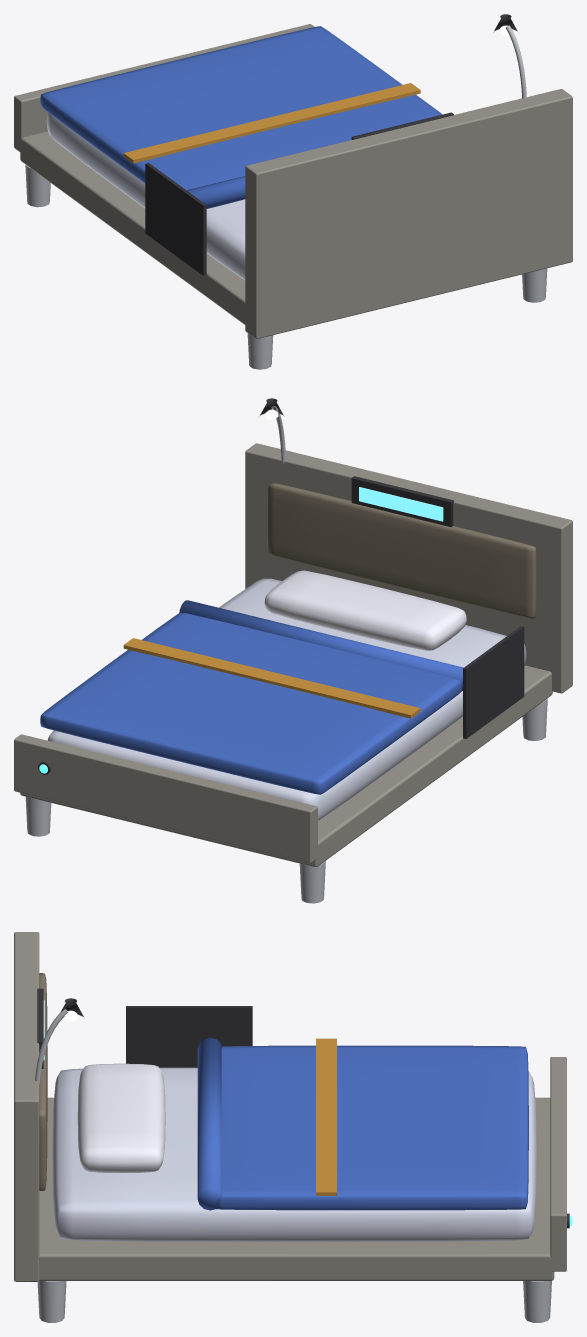
The model's file is station_B.glb.
The picture shows the model from 3 angles, top to bottom: view 1: azimuth 30°, elevation 25°; view 2: azimuth 150°, elevation 25°; view 3: azimuth 270°, elevation 25°; orthographic projection. The views are drawn at different scales.
Visible parts, largest first — view 1: station_B_grey, station_B_sheet, station_B_graph, mattress, blanket_stripe, station_B_steel; view 2: station_B_grey, station_B_sheet, head_pad, mattress, pillow, station_B_graph, blanket_stripe, station_B_steel, head_screen; view 3: station_B_sheet, station_B_grey, mattress, pillow, station_B_graph, blanket_stripe, station_B_steel, head_pad.
Boxes of the visible parts, left/top/right/bottom form: station_B_grey: left=14, top=24, right=572, bottom=338; station_B_sheet: left=40, top=26, right=442, bottom=208; station_B_graph: left=145, top=14, right=517, bottom=275; mattress: left=46, top=112, right=245, bottom=280; blanket_stripe: left=123, top=83, right=420, bottom=163; station_B_steel: left=25, top=25, right=547, bottom=369; station_B_grey: left=14, top=443, right=572, bottom=867; station_B_sheet: left=40, top=600, right=463, bottom=794; head_pad: left=268, top=482, right=536, bottom=618; mattress: left=47, top=578, right=526, bottom=820; pillow: left=264, top=570, right=466, bottom=650; station_B_graph: left=38, top=398, right=524, bottom=774; blanket_stripe: left=123, top=638, right=420, bottom=718; station_B_steel: left=25, top=405, right=547, bottom=903; head_screen: left=359, top=487, right=443, bottom=521; station_B_sheet: left=197, top=1037, right=528, bottom=1210; station_B_grey: left=14, top=932, right=566, bottom=1281; mattress: left=52, top=1067, right=536, bottom=1242; pillow: left=77, top=1063, right=165, bottom=1172; station_B_graph: left=37, top=988, right=569, bottom=1228; blanket_stripe: left=316, top=1038, right=336, bottom=1195; station_B_steel: left=35, top=1008, right=551, bottom=1322; head_pad: left=39, top=973, right=47, bottom=1190.
Size of the model in its own units: 1.91 by 1.6 by 2.65.
